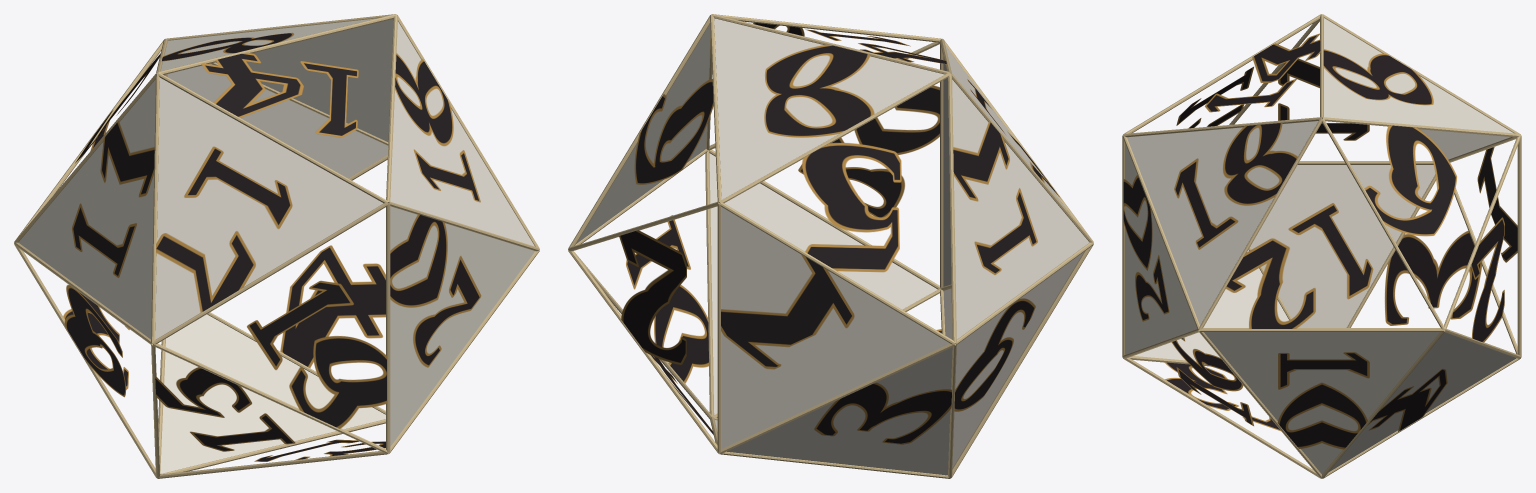
The picture shows the model from 3 angles, left to right: view 1: azimuth 30°, elevation 25°; view 2: azimuth 150°, elevation 25°; view 3: azimuth 270°, elevation 25°; orthographic projection. The views are drawn at different scales.
Visible parts, largest first — view 1: DiceBody, GoldEdgeTrim, FaceLabel_10_19, FaceLabel_11_17, FaceLabel_5_4, FaceLabel_16_20, FaceLabel_12_14, FaceLabel_18_18, FaceLabel_7_11, FaceLabel_9_15, FaceLabel_8_9, FaceLabel_13_8 (+2 smaller); view 2: DiceBody, GoldEdgeTrim, FaceLabel_1_5, FaceLabel_13_8, FaceLabel_3_1, FaceLabel_2_2, FaceLabel_16_20, FaceLabel_7_11, FaceLabel_0_3, FaceLabel_14_6, FaceLabel_15_10, FaceLabel_8_9 (+1 smaller); view 3: DiceBody, GoldEdgeTrim, FaceLabel_19_12, FaceLabel_18_18, FaceLabel_14_6, FaceLabel_15_10, FaceLabel_0_3, FaceLabel_13_8, FaceLabel_16_20, FaceLabel_12_14, FaceLabel_2_2, FaceLabel_17_16 (+5 smaller).
Part boxes in pixels (box(x1,y1,x2,y2)): DiceBody: box(18, 18, 534, 473); GoldEdgeTrim: box(14, 14, 539, 478); FaceLabel_10_19: box(247, 280, 386, 428); FaceLabel_11_17: box(156, 146, 292, 312); FaceLabel_5_4: box(280, 245, 385, 367); FaceLabel_16_20: box(390, 214, 481, 367); FaceLabel_12_14: box(201, 52, 358, 137); FaceLabel_18_18: box(395, 53, 480, 202); FaceLabel_7_11: box(72, 121, 154, 277); FaceLabel_9_15: box(155, 367, 295, 451); FaceLabel_8_9: box(64, 284, 125, 397); FaceLabel_13_8: box(161, 32, 293, 61); DiceBody: box(576, 18, 1089, 475); GoldEdgeTrim: box(568, 14, 1093, 478); FaceLabel_1_5: box(802, 142, 901, 272); FaceLabel_13_8: box(764, 44, 874, 137); FaceLabel_3_1: box(721, 254, 854, 369); FaceLabel_2_2: box(619, 230, 686, 364); FaceLabel_16_20: box(798, 85, 939, 217); FaceLabel_7_11: box(953, 121, 1037, 274); FaceLabel_0_3: box(814, 382, 951, 444); FaceLabel_14_6: box(634, 78, 713, 184); FaceLabel_15_10: box(626, 215, 708, 383); FaceLabel_8_9: box(954, 298, 1035, 411); DiceBody: box(1125, 18, 1516, 473); GoldEdgeTrim: box(1122, 14, 1521, 478); FaceLabel_19_12: box(1225, 203, 1373, 328); FaceLabel_18_18: box(1174, 123, 1297, 249); FaceLabel_14_6: box(1364, 125, 1456, 236); FaceLabel_15_10: box(1277, 352, 1369, 449); FaceLabel_0_3: box(1384, 231, 1481, 325); FaceLabel_13_8: box(1323, 49, 1433, 105); FaceLabel_16_20: box(1123, 175, 1169, 321); FaceLabel_12_14: box(1205, 33, 1320, 112); FaceLabel_2_2: box(1471, 217, 1504, 342); FaceLabel_17_16: box(1171, 338, 1253, 426).
Bounding box in the file's own units: 1.72 × 1.72 × 1.72.
20 materials, 20 textured.
